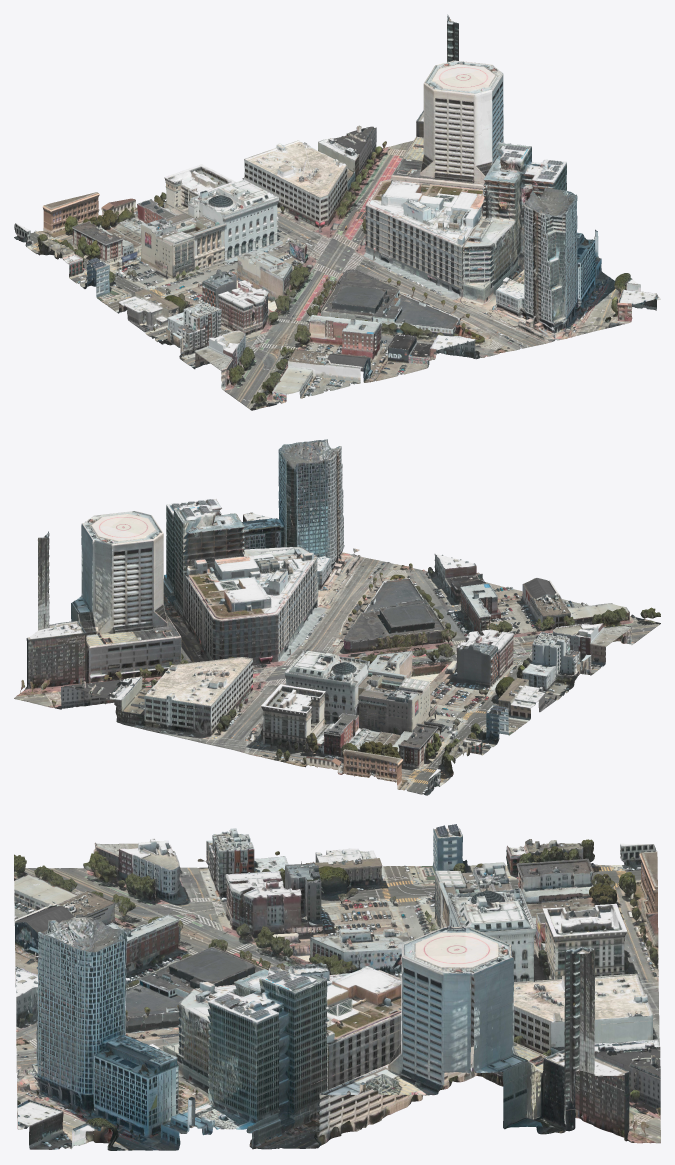
3 renders of one model, top to bottom at view 1: azimuth 30°, elevation 25°; view 2: azimuth 150°, elevation 25°; view 3: azimuth 270°, elevation 25°, orthographic. The views are drawn at different scales.
Parts seen in each view (by area): view 1: san_francisco_usa_sample_3, san_francisco_usa_sample_2, san_francisco_usa_sample_1, san_francisco_usa_sample_4; view 2: san_francisco_usa_sample_1, san_francisco_usa_sample_2, san_francisco_usa_sample_3, san_francisco_usa_sample_4; view 3: san_francisco_usa_sample_3, san_francisco_usa_sample_1, san_francisco_usa_sample_2, san_francisco_usa_sample_4.
Boxes of the visible parts, box(x1,y1,x2,y2) form: san_francisco_usa_sample_3: box(165, 144, 614, 394); san_francisco_usa_sample_2: box(100, 63, 514, 345); san_francisco_usa_sample_1: box(14, 14, 479, 300); san_francisco_usa_sample_4: box(230, 188, 660, 410); san_francisco_usa_sample_1: box(14, 529, 512, 795); san_francisco_usa_sample_2: box(78, 511, 575, 732); san_francisco_usa_sample_3: box(163, 499, 639, 679); san_francisco_usa_sample_4: box(243, 439, 660, 639); san_francisco_usa_sample_3: box(72, 828, 310, 1150); san_francisco_usa_sample_1: box(423, 824, 660, 1143); san_francisco_usa_sample_2: box(248, 834, 486, 1148); san_francisco_usa_sample_4: box(14, 854, 134, 1150).
Bounding box in the file's own units: 3.35 × 1.18 × 3.33.
Materials: 4 (4 with a texture image).
